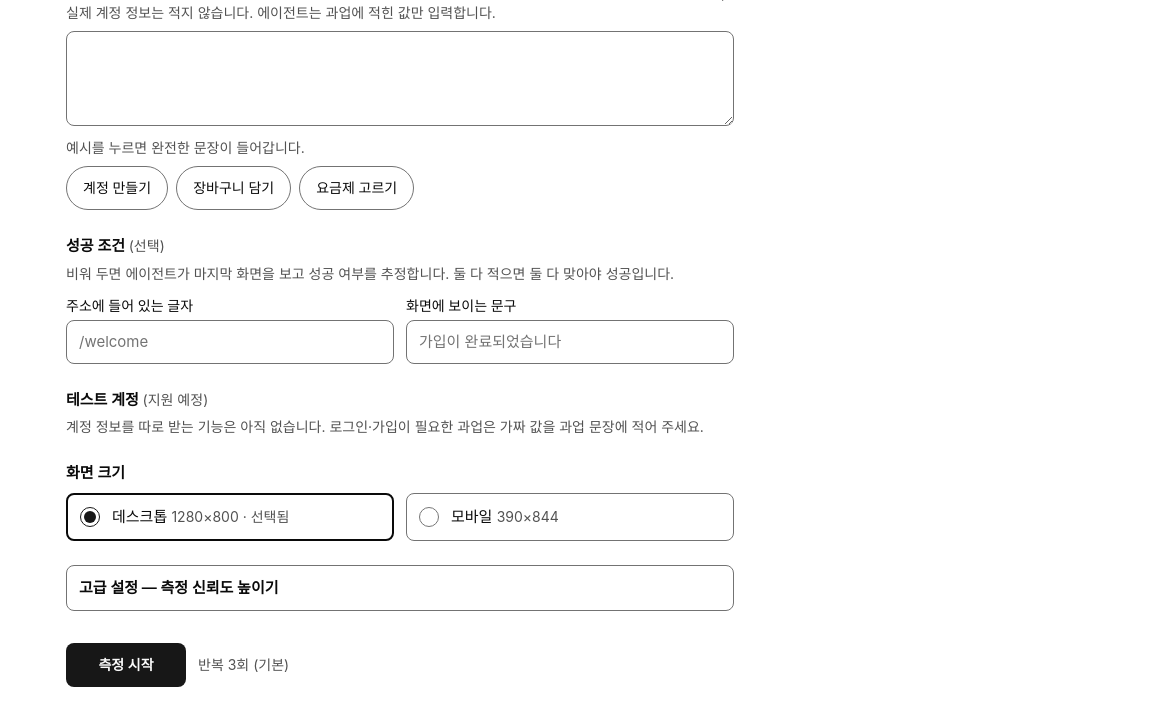
it: #83: 측정 예상(시간·비용) 칸이 없고, 5회를 고르면 숫자 없이 3회보다 오래 걸린다고만 쓴다
(page scrolled)
Expected: the text "· 반복 5회는 3회보다 오래 걸립니다" is not shown
Click the heading "고급 설정 — 측정 신뢰도 높이기" at (179, 588), box [79,578,278,597]
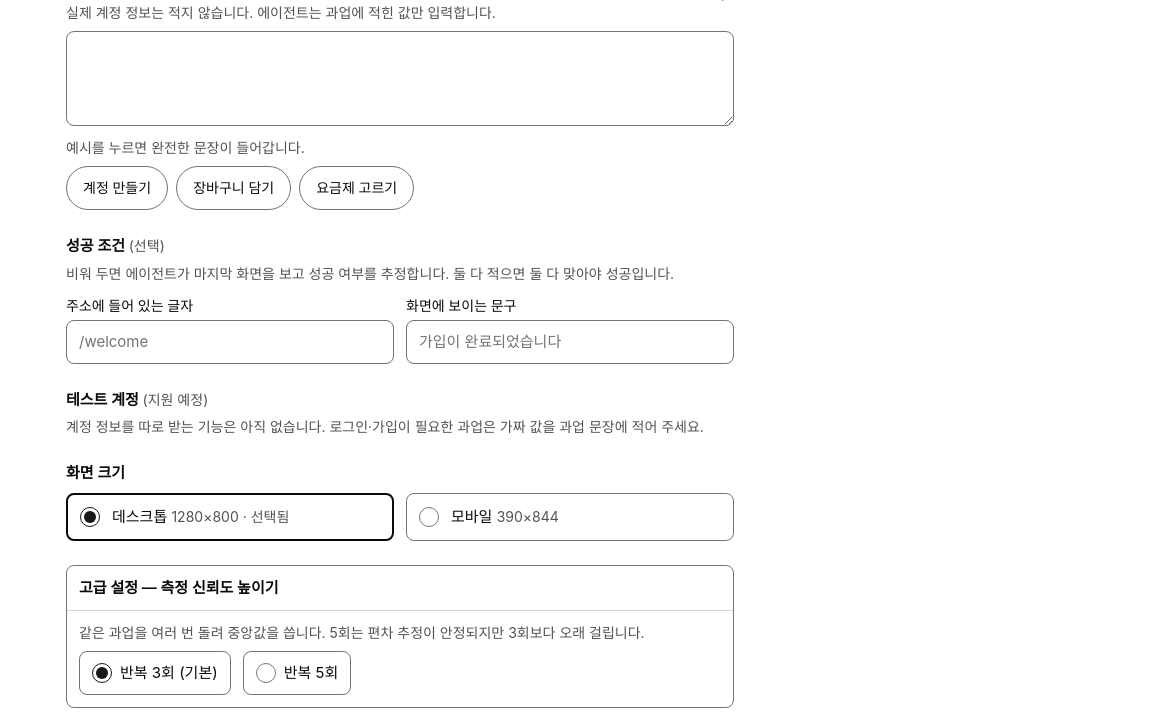
Click the radio button labelled "반복 5회" at (266, 673), box [256,663,276,683]
(page scrolled)
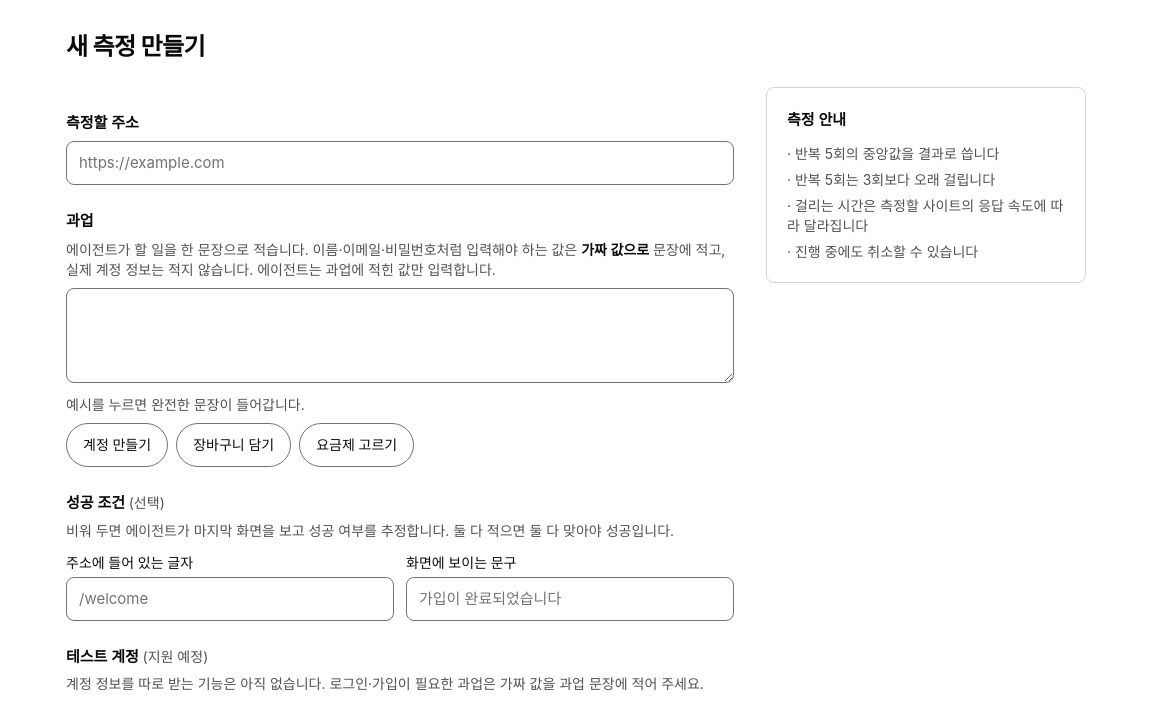
Result: the list item "· 반복 5회는 3회보다 오래 걸립니다" is shown at [787,171,995,188]
